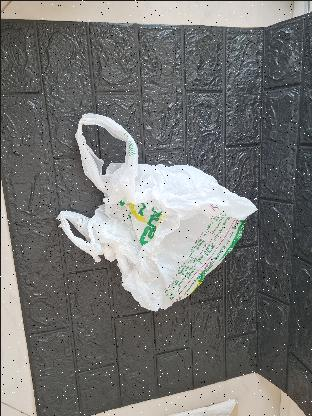Others: (47, 104, 264, 316)
